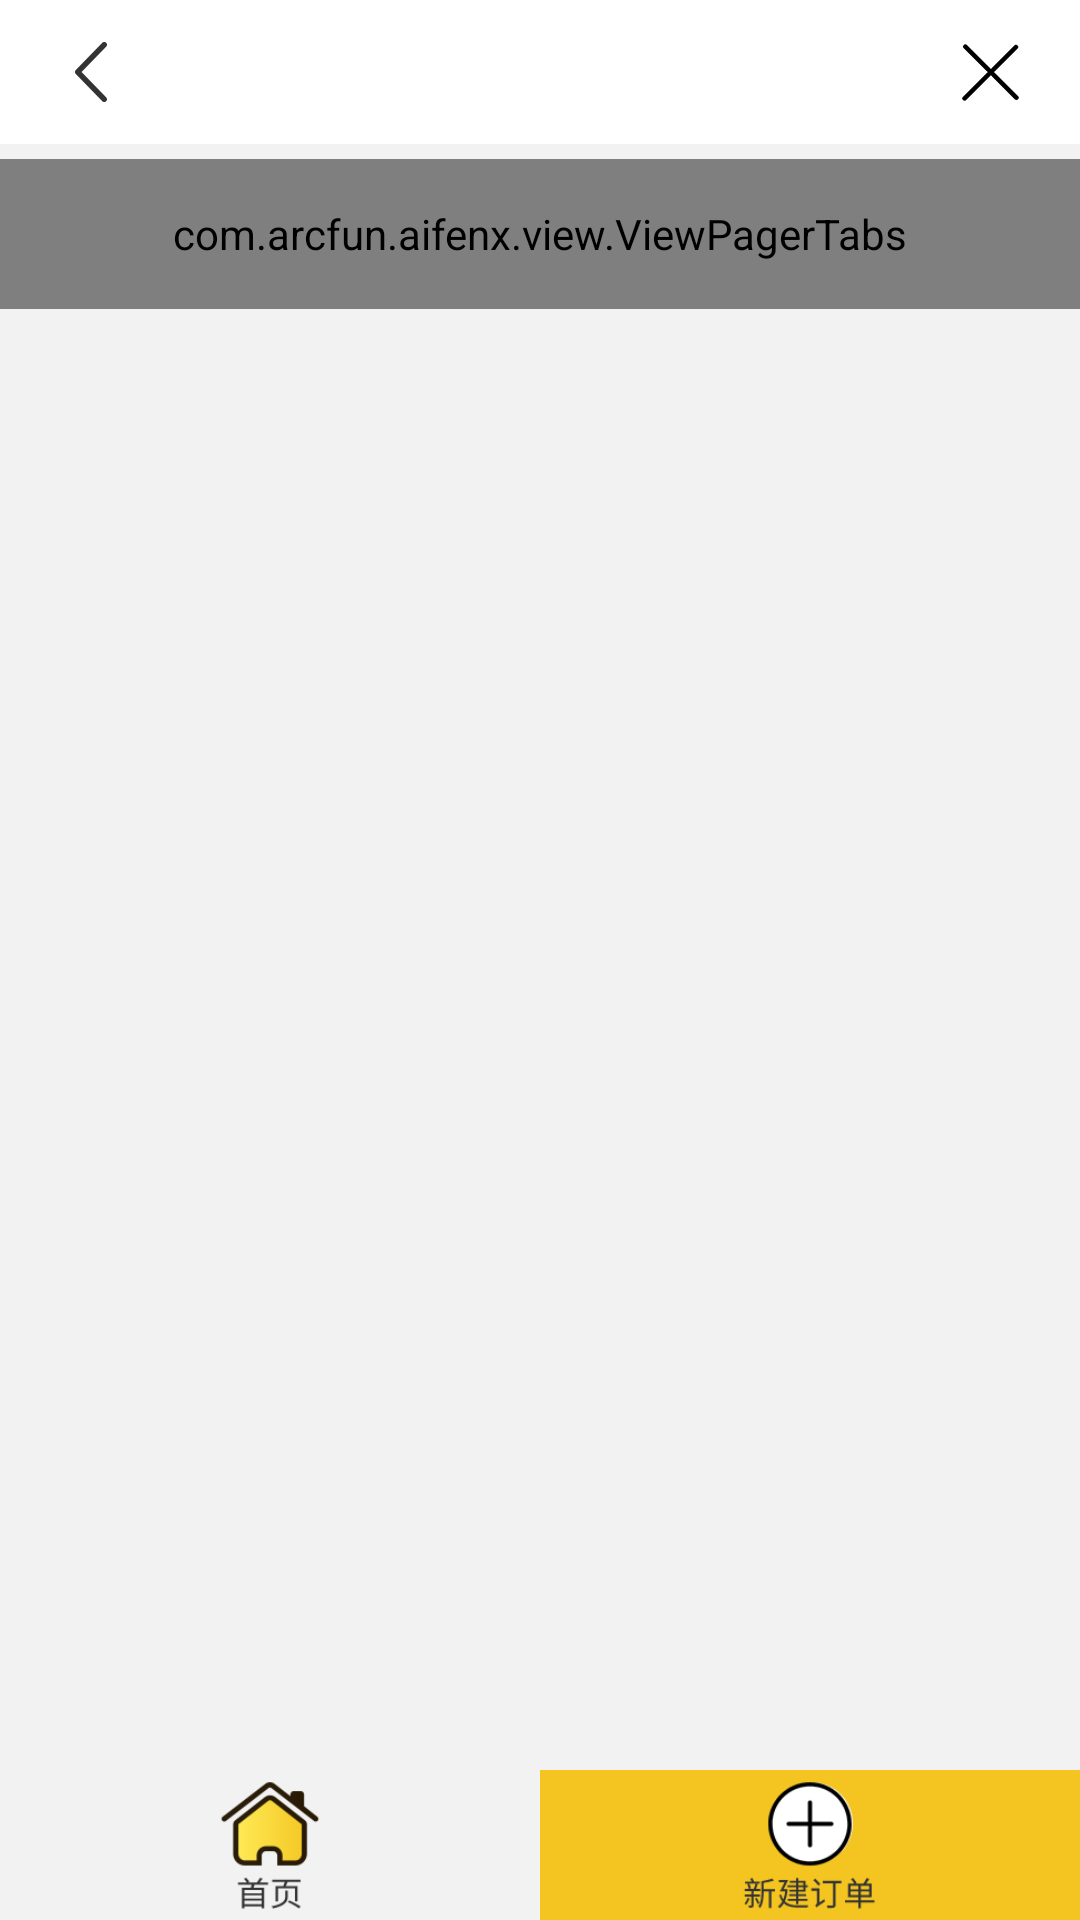

Screen size 1080x1920. Icon name, then its box in pixels as (x1=x1, y1=y1, x2=x2, y2=y2):
上一步: (x1=75, y1=42, x2=107, y2=102)
